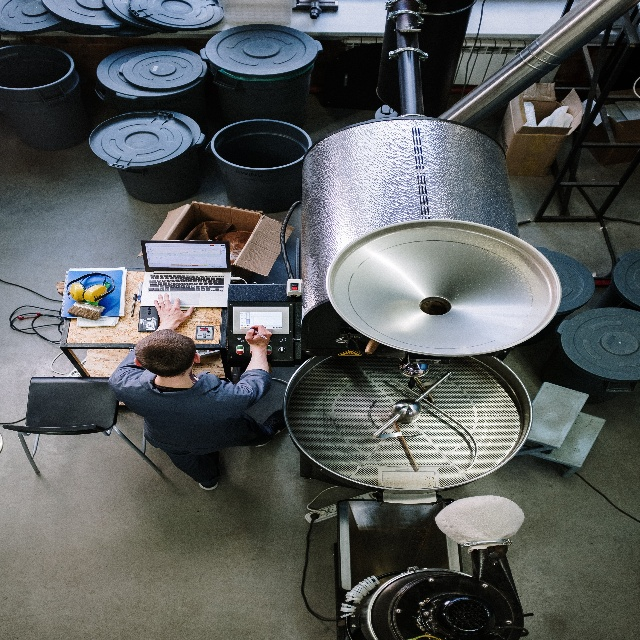Sin_guantes: (153, 292, 197, 325), (243, 323, 272, 351)
